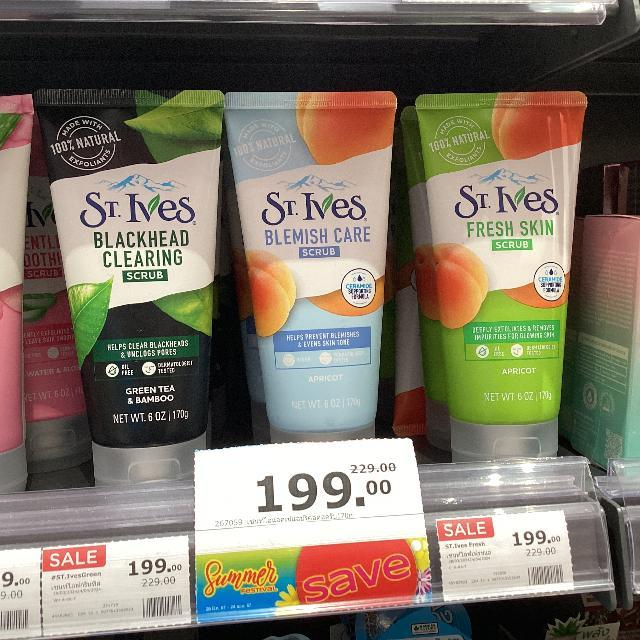Squeeze Tube: (0, 38, 640, 508), (23, 74, 232, 512), (224, 90, 390, 480), (413, 96, 589, 459)
